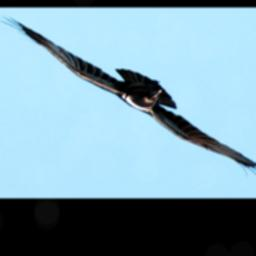Crow: (0, 14, 256, 192)
